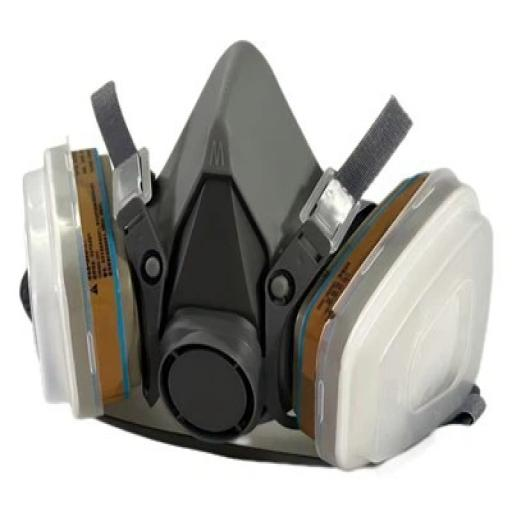mask: (12, 40, 506, 478)
